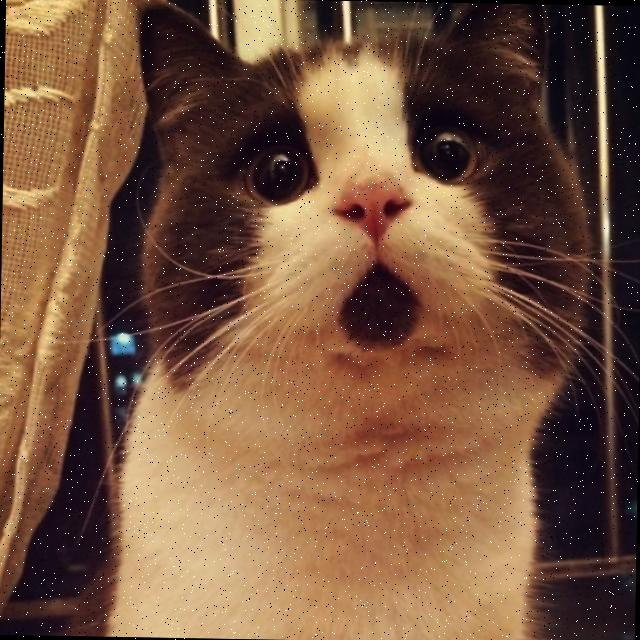Surprised: (203, 92, 524, 381)
